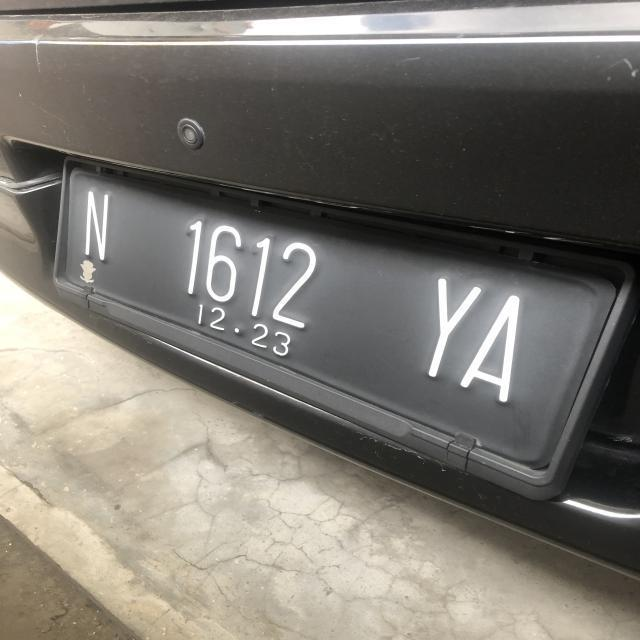1: (244, 232, 274, 318), (181, 215, 208, 298)
2: (272, 240, 325, 330)
6: (204, 225, 243, 304)
A: (458, 293, 524, 405)
N: (76, 189, 121, 261)
Y: (423, 269, 485, 386)
